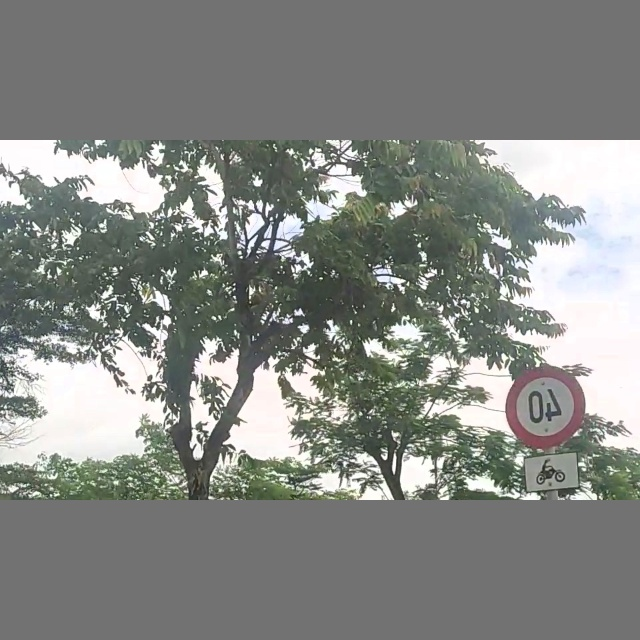P.127*40: (503, 365, 587, 451)
S.505a*Xe may: (521, 452, 583, 493)
